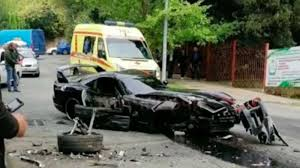car: (50, 56, 273, 153)
